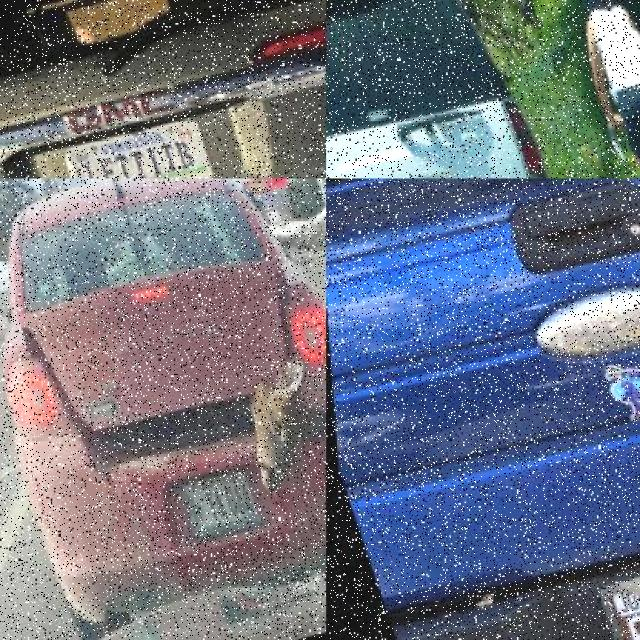licenseplate: (57, 117, 209, 178), (169, 467, 255, 539)
